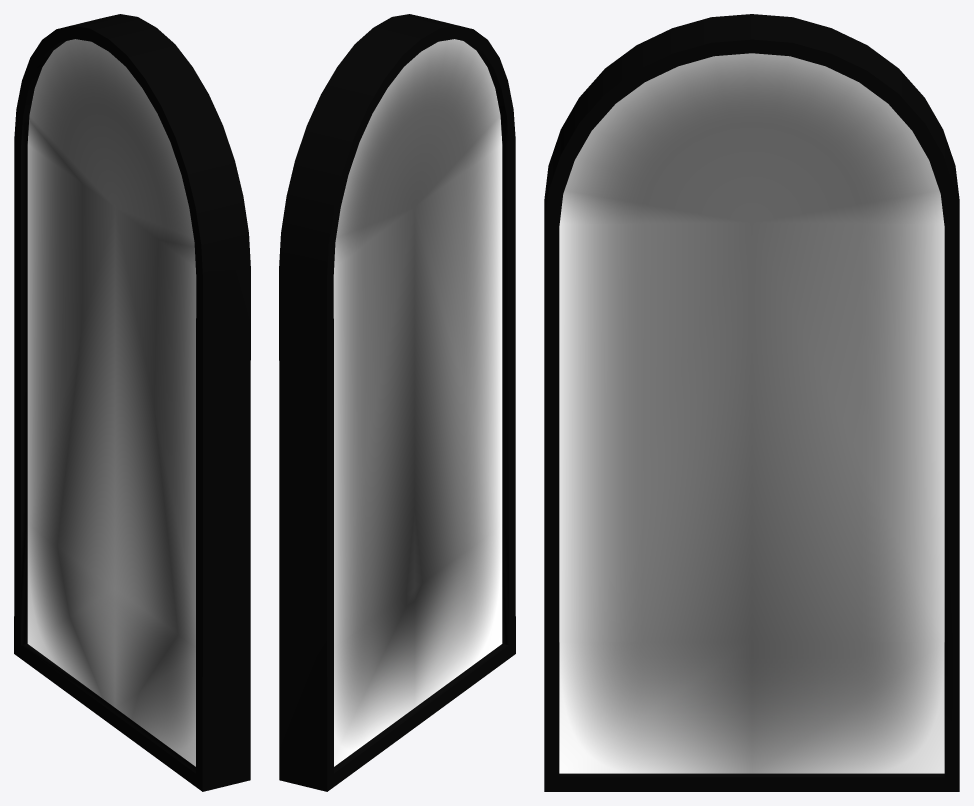
The model's file is Portal_Arch.fbx.
3 views of the same model, side by side, from view 1: azimuth 30°, elevation 25°; view 2: azimuth 150°, elevation 25°; view 3: azimuth 270°, elevation 25° (orthographic). The views are drawn at different scales.
Parts seen in each view (by area): view 1: Portal_Arch; view 2: Portal_Arch; view 3: Portal_Arch.
Part boxes in pixels (box(x1,y1,x2,y2)): Portal_Arch: box(14, 14, 250, 791); Portal_Arch: box(279, 14, 515, 791); Portal_Arch: box(544, 14, 959, 791).
Size of the model in its own units: 17.65 by 240 by 120.
